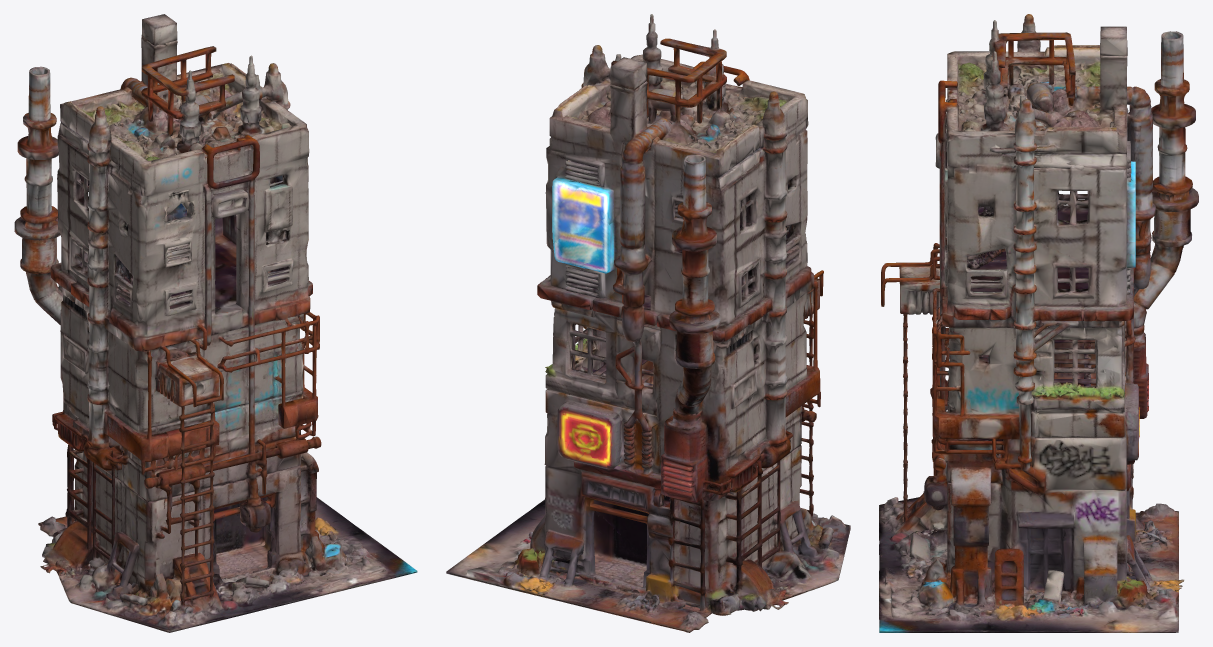
File: scaffold_ruin.glb
The picture shows the model from 3 angles, left to right: view 1: azimuth 30°, elevation 25°; view 2: azimuth 150°, elevation 25°; view 3: azimuth 270°, elevation 25°; orthographic projection. The views are drawn at different scales.
Visible parts, largest first — view 1: scaffold_ruin; view 2: scaffold_ruin; view 3: scaffold_ruin.
Boxes of the visible parts, x1,y1,x2,y2 form: scaffold_ruin: (14, 14, 417, 632); scaffold_ruin: (446, 14, 850, 632); scaffold_ruin: (879, 14, 1198, 632).
Size of the model in its own units: 1.15 by 1.9 by 1.04.
Materials: 1 (1 with a texture image).
